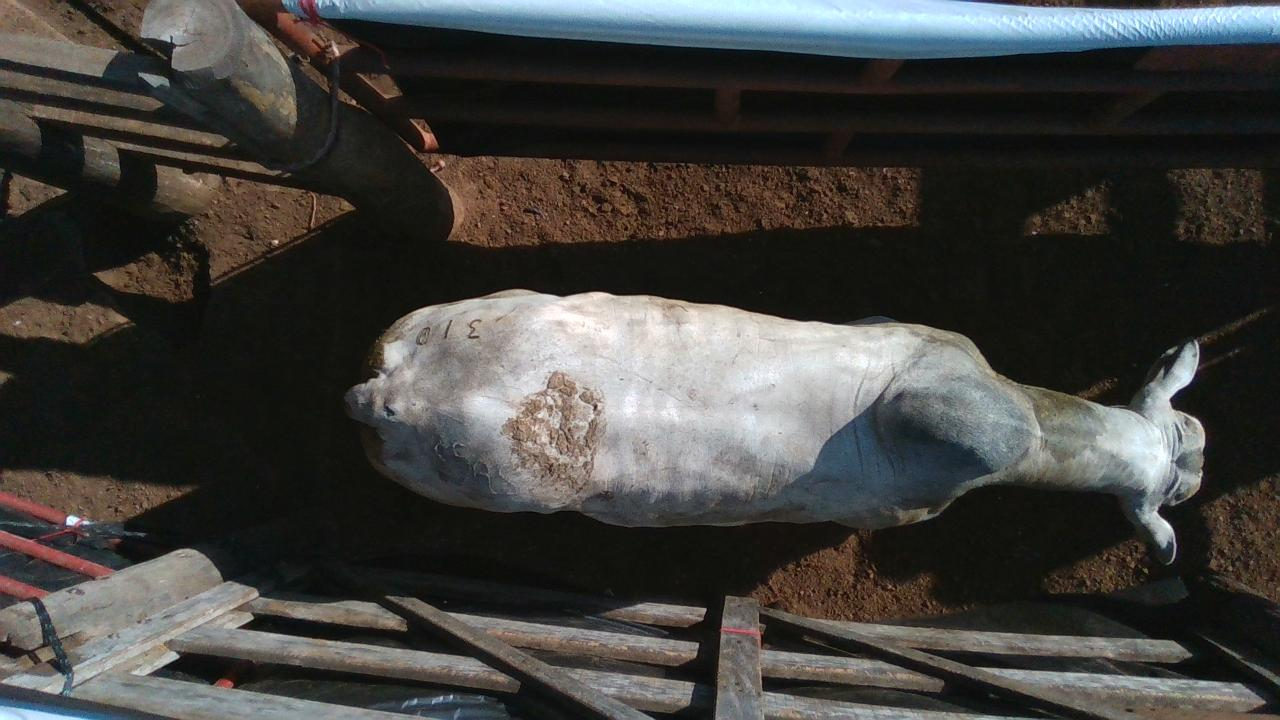cattle: (342, 285, 1207, 567)
